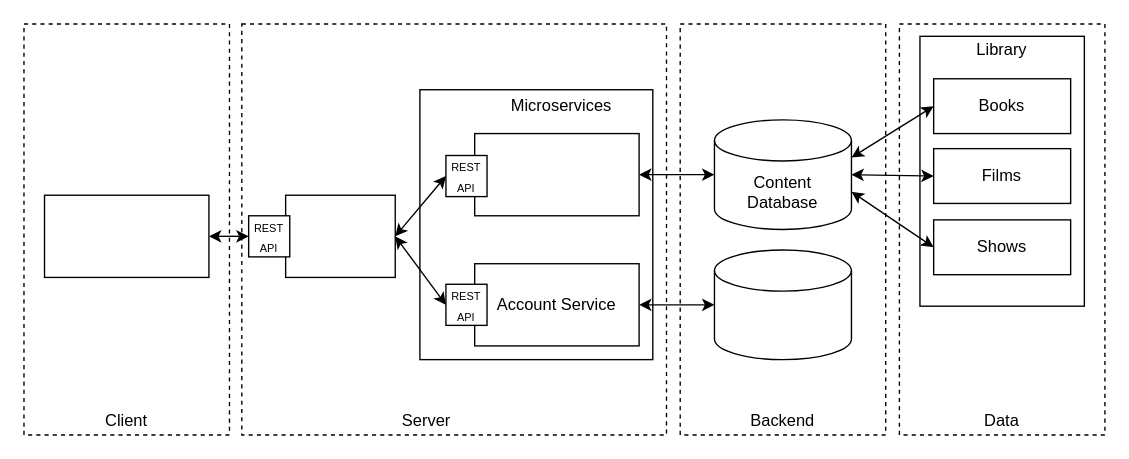
Image size: 1129x459. Some labels were removed from this diagram. The centre of each missing label's shape, as x and y in pixels:
"Account Database" belongs at [782,304].
"API Gateway" belongs at [339,235].
"Cliente" belongs at [126,235].
"Recommendation Service" belongs at [556,174].
